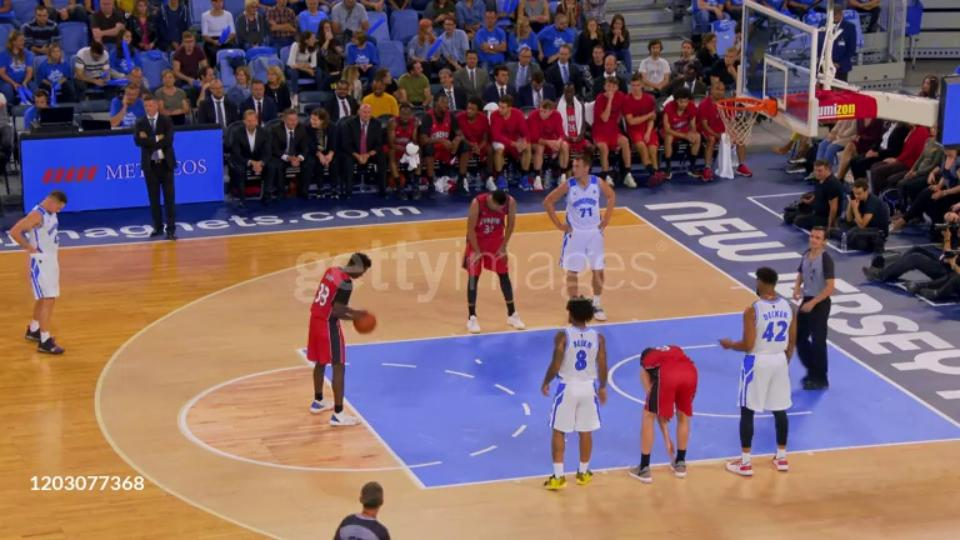hoop: (714, 95, 772, 119)
